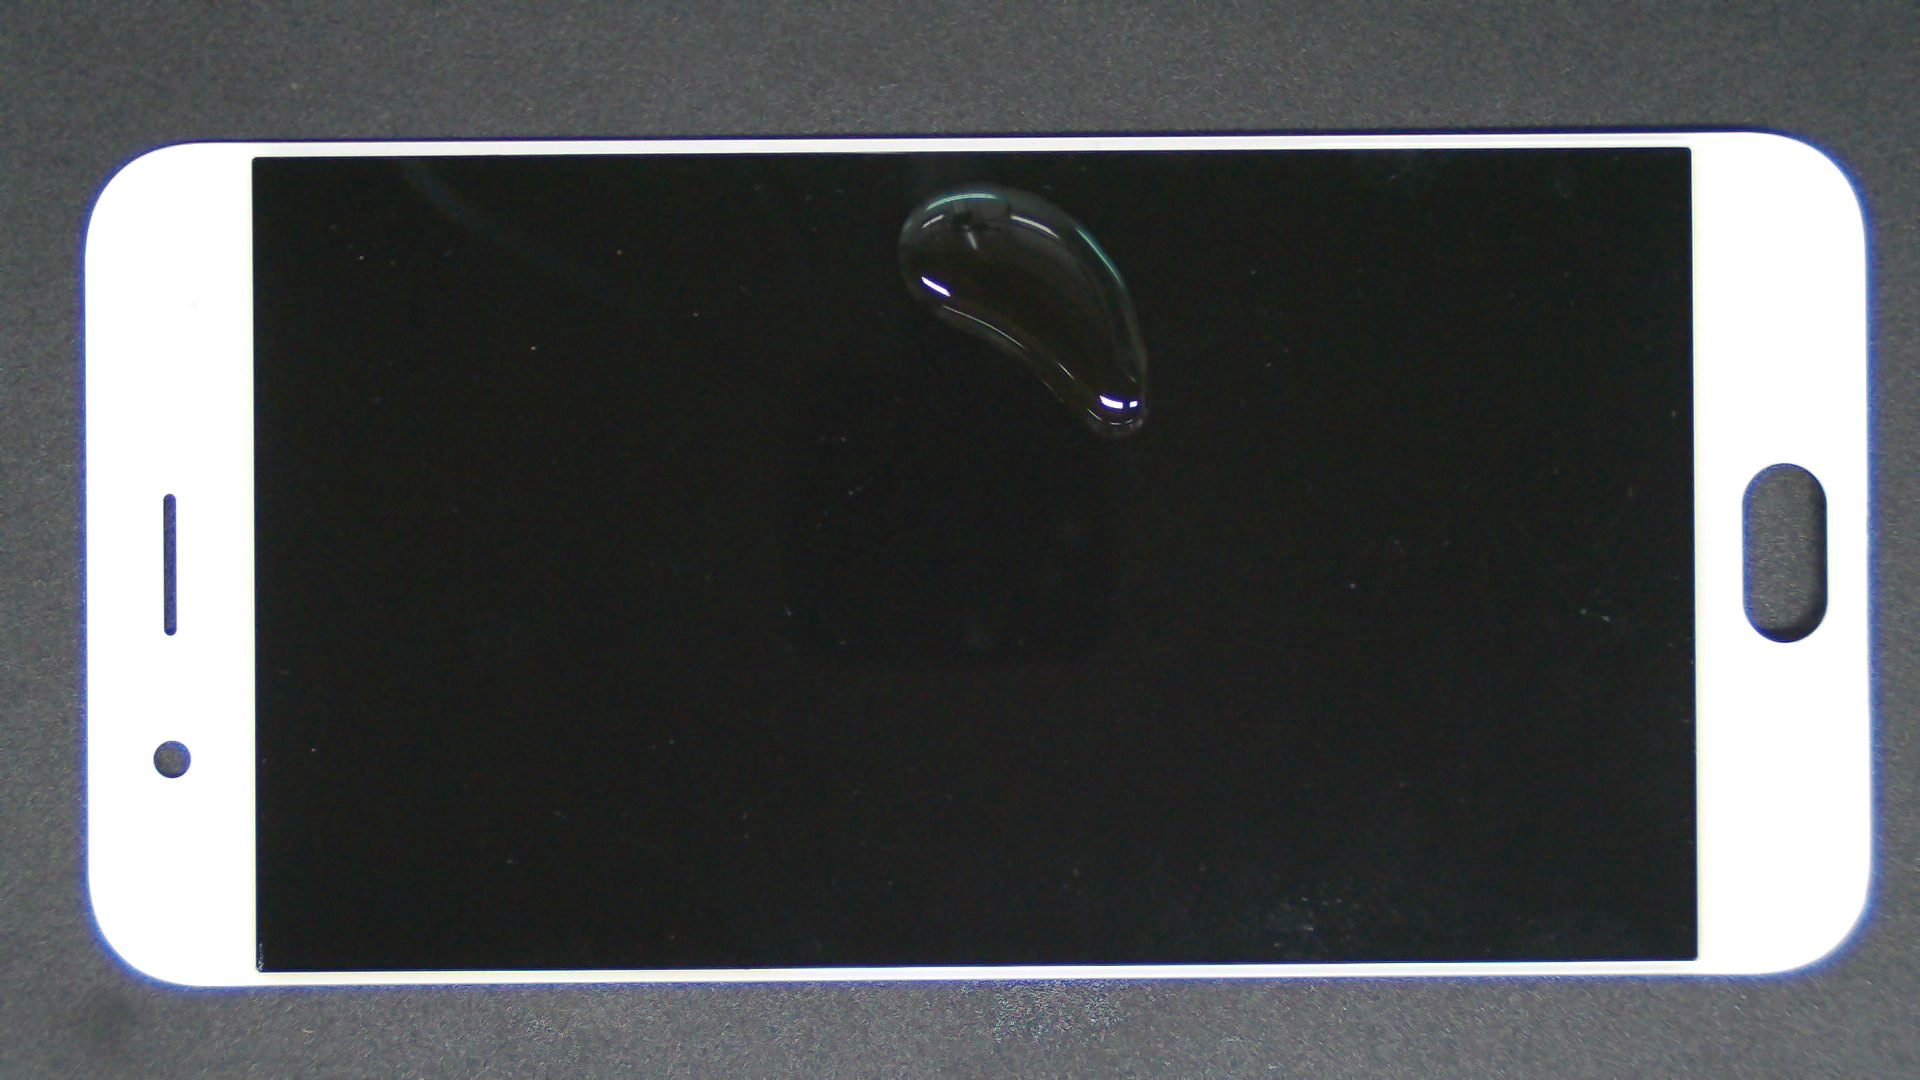defect: (895, 181, 1149, 439)
